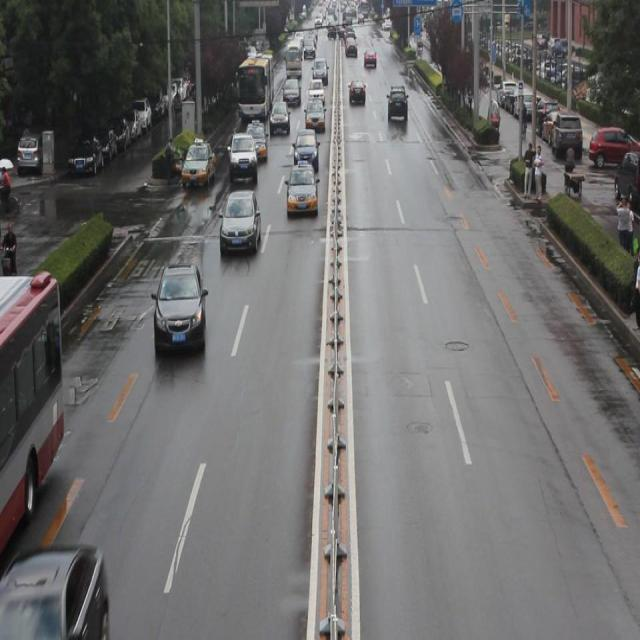car: (0, 548, 110, 640), (152, 262, 207, 358), (218, 192, 260, 254), (285, 161, 319, 215), (183, 134, 216, 184), (227, 133, 256, 180), (245, 119, 267, 161), (294, 132, 318, 169), (267, 100, 290, 137), (386, 84, 407, 122), (304, 98, 324, 132)
van: (1, 269, 66, 540), (238, 52, 274, 119)
